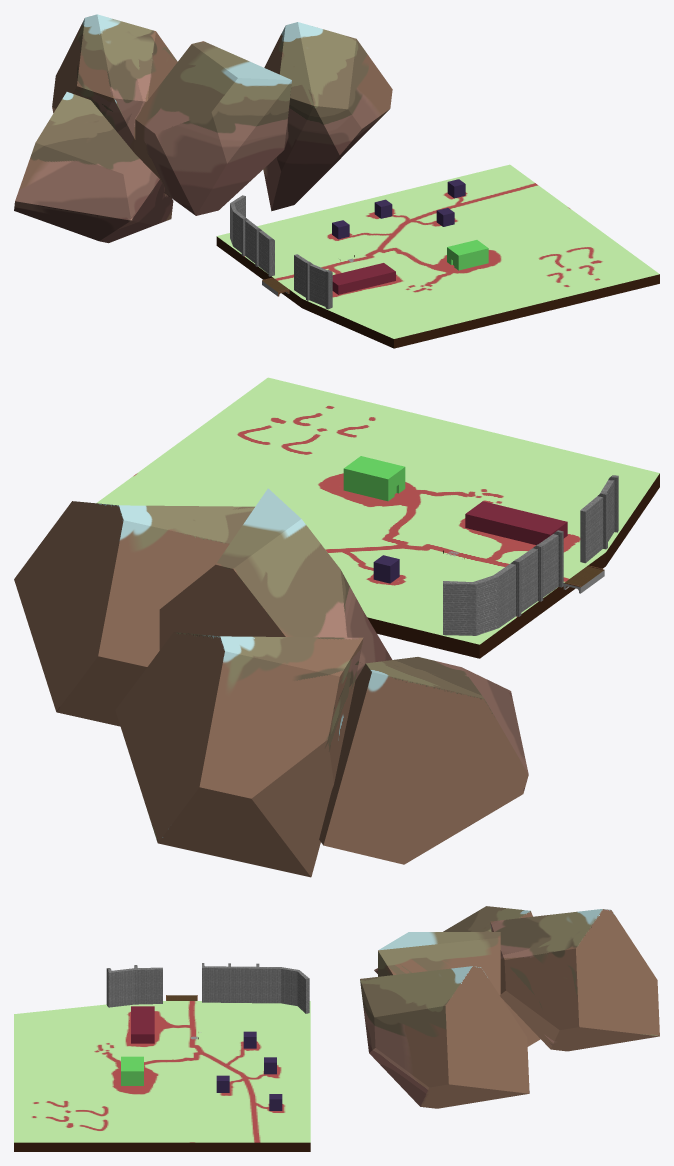
The model's file is ch1_overworld.glb.
3 views of the same model, one above another, from view 1: azimuth 30°, elevation 25°; view 2: azimuth 150°, elevation 25°; view 3: azimuth 270°, elevation 25° (orthographic). The views are drawn at different scales.
Parts seen in each view (by area): view 1: Mountains, CitadelFoundation-col, CitadelWall-col, MercDorms-col, TeaShop-col; view 2: Mountains, CitadelFoundation-col, CitadelWall-col, MercDorms-col, TeaShop-col; view 3: Mountains, CitadelFoundation-col, CitadelWall-col, MercDorms-col, TeaShop-col.
Boxes of the visible parts, left/top/right/bottom form: Mountains: left=14, top=14, right=392, bottom=243; CitadelFoundation-col: left=216, top=164, right=659, bottom=348; CitadelWall-col: left=230, top=195, right=332, bottom=309; MercDorms-col: left=332, top=263, right=395, bottom=294; TeaShop-col: left=447, top=240, right=488, bottom=270; Mountains: left=14, top=488, right=528, bottom=877; CitadelFoundation-col: left=96, top=377, right=659, bottom=658; CitadelWall-col: left=443, top=475, right=618, bottom=635; MercDorms-col: left=465, top=501, right=567, bottom=545; TeaShop-col: left=343, top=456, right=405, bottom=501; Mountains: left=360, top=906, right=659, bottom=1108; CitadelFoundation-col: left=14, top=1001, right=310, bottom=1151; CitadelWall-col: left=106, top=963, right=309, bottom=1013; MercDorms-col: left=131, top=1006, right=154, bottom=1043; TeaShop-col: left=121, top=1056, right=143, bottom=1085.
Size of what is drawn, in the model's own units: 577 by 233 by 795.
Materials: 15 (7 with a texture image).
